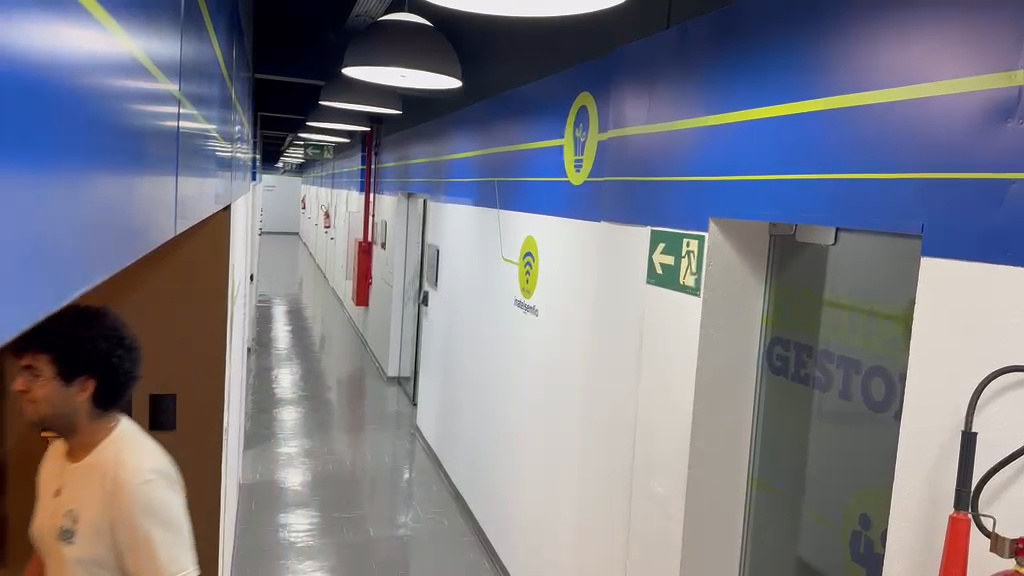person: (1, 303, 201, 574)
